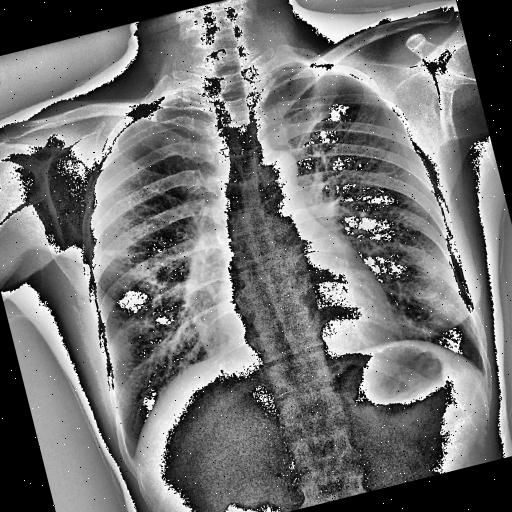13- Pulmonary fibrosis: (100, 238, 152, 272), (97, 241, 133, 265), (102, 242, 134, 266)
